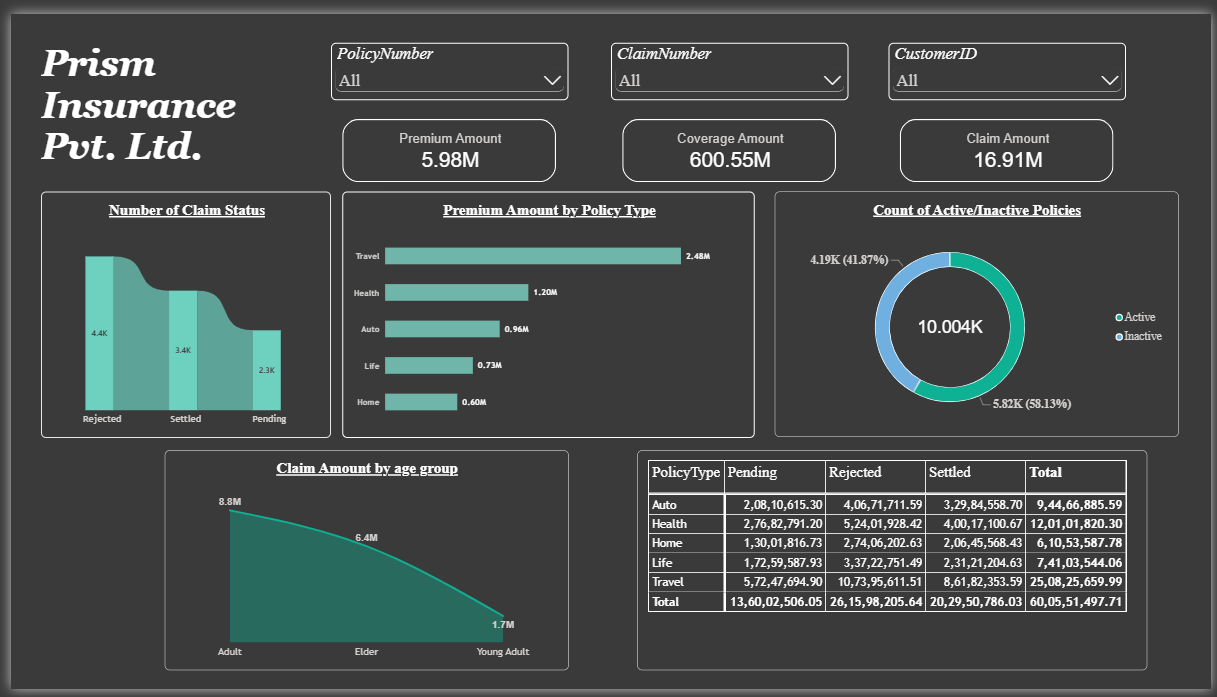

The page's visual inventory and layout, read from the dashboard file:
{"tool":"powerbi","page":{"name":"Insurance Overview","canvas":[1920,1080],"ordinal":0},"visuals":[{"type":"slicer","fields":{"Values":["InsuranceData.PolicyNumber"]},"box":[512,46,380,92],"z":0},{"type":"slicer","fields":{"Values":["InsuranceData.ClaimNumber"]},"box":[960,46,380,92],"z":1000},{"type":"slicer","fields":{"Values":["InsuranceData.CustomerID"]},"box":[1404,46,380,92],"z":2000},{"type":"textbox","box":[48.6,45.7,362.9,222.9],"z":3000},{"type":"cardVisual","fields":{"Data":["Sum(InsuranceData.PremiumAmount)"]},"box":[530,167.1,342.9,101.4],"z":4000},{"type":"cardVisual","fields":{"Data":["Sum(InsuranceData.CoverageAmount)"]},"box":[978.6,167.1,342.9,101.4],"z":5000},{"type":"cardVisual","fields":{"Data":["Sum(InsuranceData.ClaimAmount)"]},"box":[1422.9,167.1,342.9,101.4],"z":6000},{"type":"ribbonChart","title":"Number of Claim Status","fields":{"Category":["InsuranceData.ClaimStatus"],"Y":["CountNonNull(InsuranceData.ClaimStatus)"]},"box":[48,284,464,394],"z":7000},{"type":"barChart","title":"Premium Amount by Policy Type","fields":{"Category":["InsuranceData.PolicyType"],"Y":["Sum(InsuranceData.PremiumAmount)"]},"box":[530,284,660,394],"z":8000},{"type":"lineChart","title":"Claim Amount by age group","fields":{"Category":["InsuranceData.Age group"],"Y":["Sum(InsuranceData.ClaimAmount)"]},"box":[246,698,646,352],"z":9000},{"type":"donutChart","title":"Count of Active/Inactive Policies","fields":{"Category":["InsuranceData.ACtive/Inactive"],"Y":["CountNonNull(InsuranceData.Active/Inactive)"]},"box":[1222,284,646,393],"z":10000},{"type":"pivotTable","fields":{"Columns":["InsuranceData.ClaimStatus"],"Rows":["InsuranceData.PolicyType"],"Values":["Sum(InsuranceData.CoverageAmount)"]},"box":[1002,698,816,352],"z":11000}]}

Visuals, with their boxes in screenshot pixels (x1, y1, x2, y2), scaled from the page's 1920x1080 canvas onto the 1217x697 screenshot:
slicer - InsuranceData.PolicyNumber: <bbox>325, 30, 565, 89</bbox>
slicer - InsuranceData.ClaimNumber: <bbox>608, 30, 849, 89</bbox>
slicer - InsuranceData.CustomerID: <bbox>890, 30, 1131, 89</bbox>
textbox: <bbox>31, 29, 261, 173</bbox>
cardVisual - Sum(InsuranceData.PremiumAmount): <bbox>336, 108, 553, 173</bbox>
cardVisual - Sum(InsuranceData.CoverageAmount): <bbox>620, 108, 838, 173</bbox>
cardVisual - Sum(InsuranceData.ClaimAmount): <bbox>902, 108, 1119, 173</bbox>
"Number of Claim Status" ribbonChart: <bbox>30, 183, 325, 438</bbox>
"Premium Amount by Policy Type" barChart: <bbox>336, 183, 754, 438</bbox>
"Claim Amount by age group" lineChart: <bbox>156, 450, 565, 678</bbox>
"Count of Active/Inactive Policies" donutChart: <bbox>775, 183, 1184, 437</bbox>
pivotTable - InsuranceData.ClaimStatus x InsuranceData.PolicyType: <bbox>635, 450, 1152, 678</bbox>
